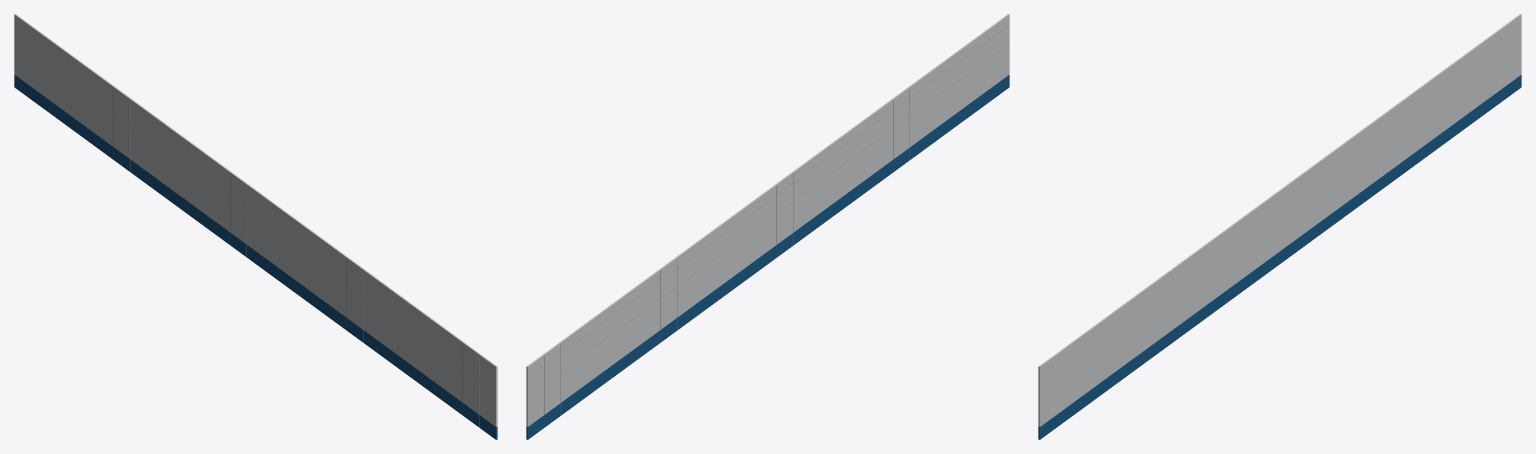
Rendered from SM_MPR3_Facade_15.fbx.
The picture shows the model from 3 angles, left to right: view 1: azimuth 30°, elevation 25°; view 2: azimuth 150°, elevation 25°; view 3: azimuth 330°, elevation 25°; orthographic projection.
Visible parts, largest first — view 1: SM_MPR3_Facade_15; view 2: SM_MPR3_Facade_15; view 3: SM_MPR3_Facade_15.
Boxes of the visible parts, bbox=[...] form: SM_MPR3_Facade_15: bbox=[14, 14, 497, 439]; SM_MPR3_Facade_15: bbox=[526, 14, 1009, 439]; SM_MPR3_Facade_15: bbox=[1038, 14, 1521, 439].
Size of the model in its own units: 31.44 by 17678 by 1480.
